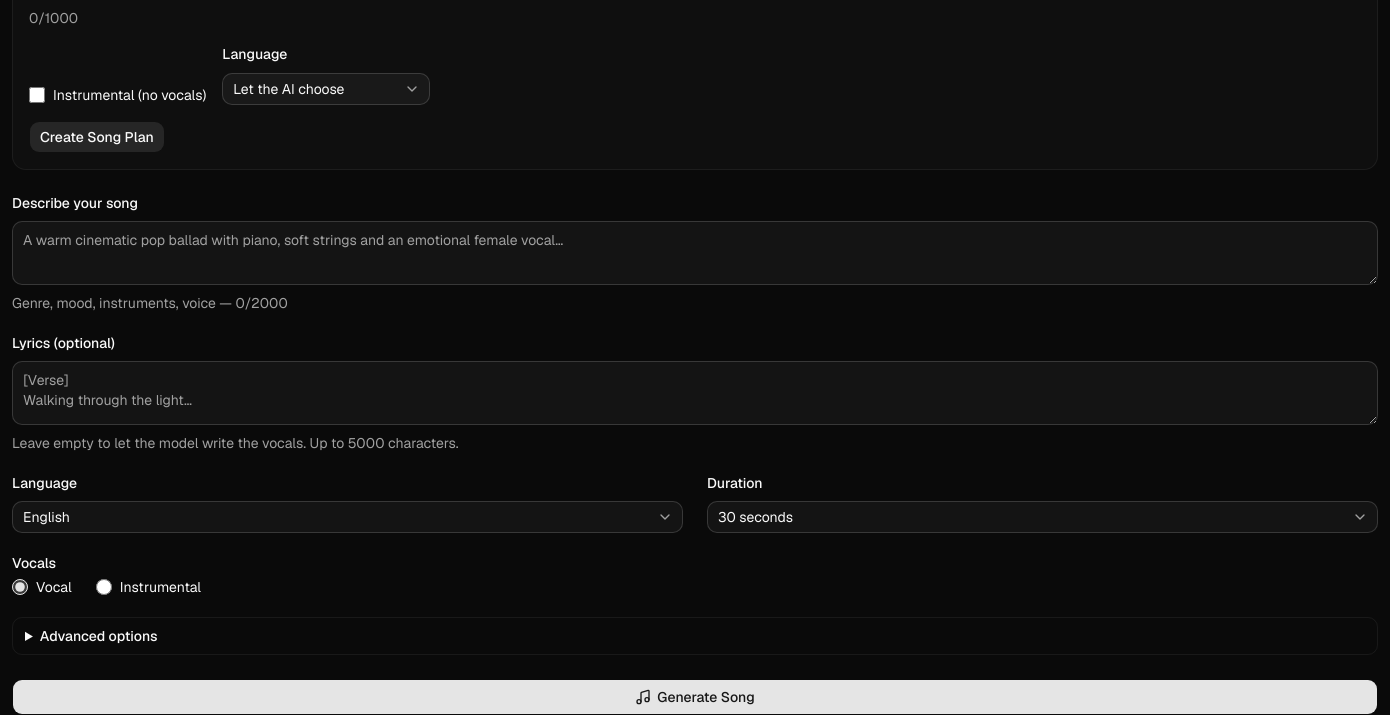
Test: CreateSongForm › disables lyrics when instrumental is on
(page scrolled)
Click the radio button labelled "Instrumental" at (104, 587), box [96,579,112,595]
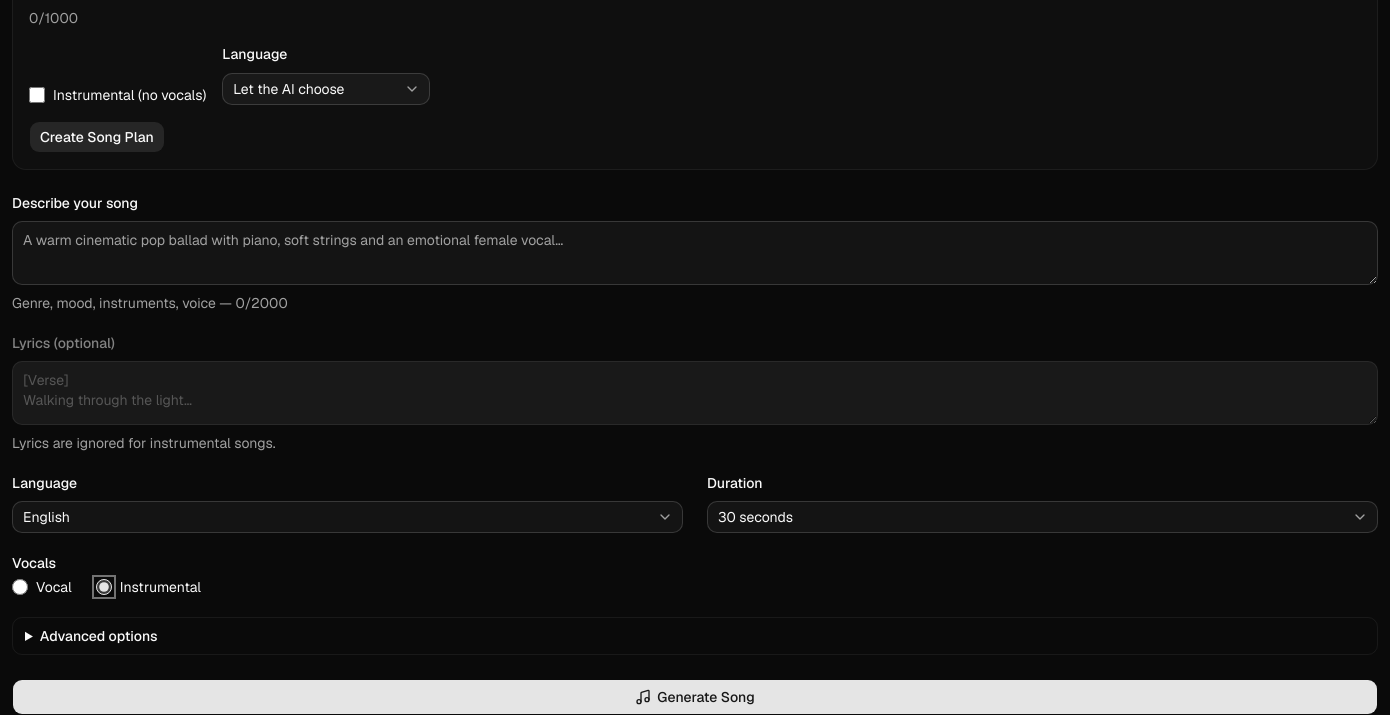
Expected: the text box labelled "Lyrics (optional)" is disabled, [12,361,1378,425]
